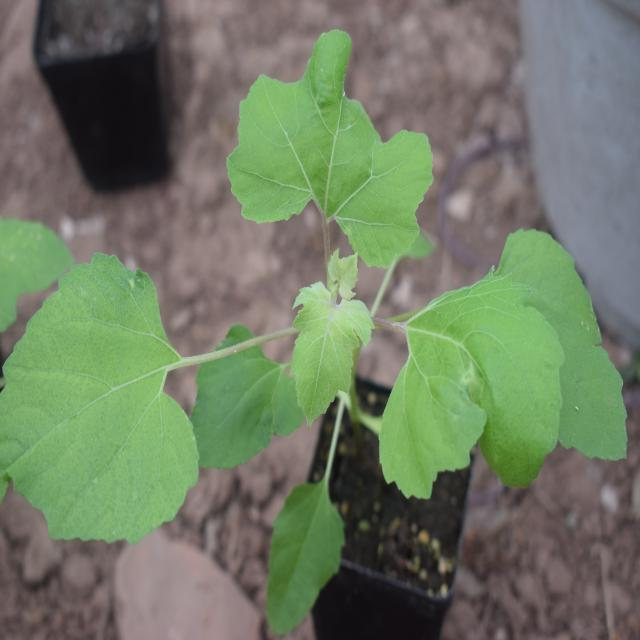cocklebur: (12, 28, 640, 513)
